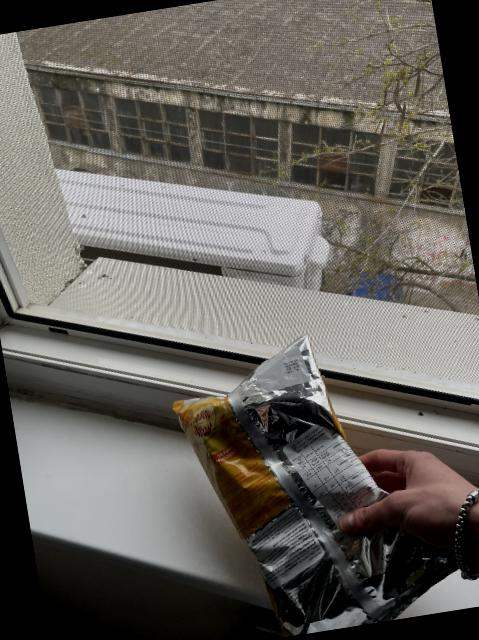Chio Hula Hoops Cheese 70g: (166, 319, 463, 640)
